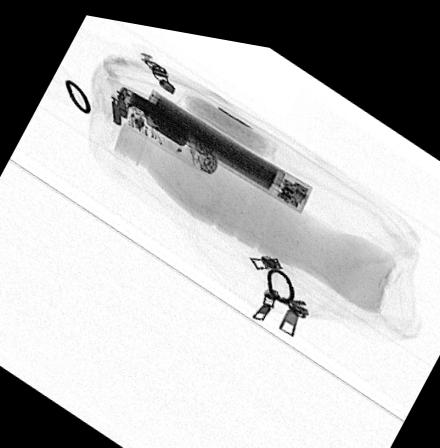Powerbank: (140, 80, 312, 202)
